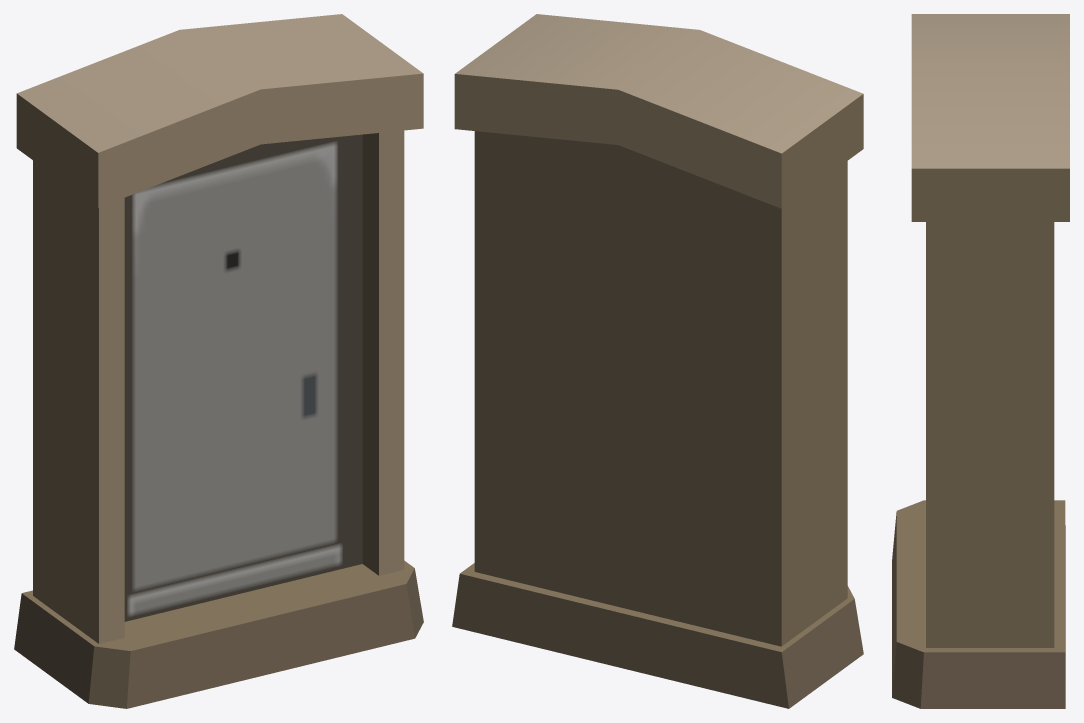
Rendered from Door_B02.fbx.
3 renders of one model, left to right at view 1: azimuth 30°, elevation 25°; view 2: azimuth 150°, elevation 25°; view 3: azimuth 270°, elevation 25°, orthographic. The views are drawn at different scales.
Parts seen in each view (by area): view 1: Door_B02; view 2: Door_B02; view 3: Door_B02.
Part boxes in pixels (left/top/right/bottom): Door_B02: left=14, top=14, right=423, bottom=708; Door_B02: left=452, top=14, right=863, bottom=708; Door_B02: left=892, top=14, right=1069, bottom=708.
Bounding box in the file's own units: 220 × 362 × 104.
